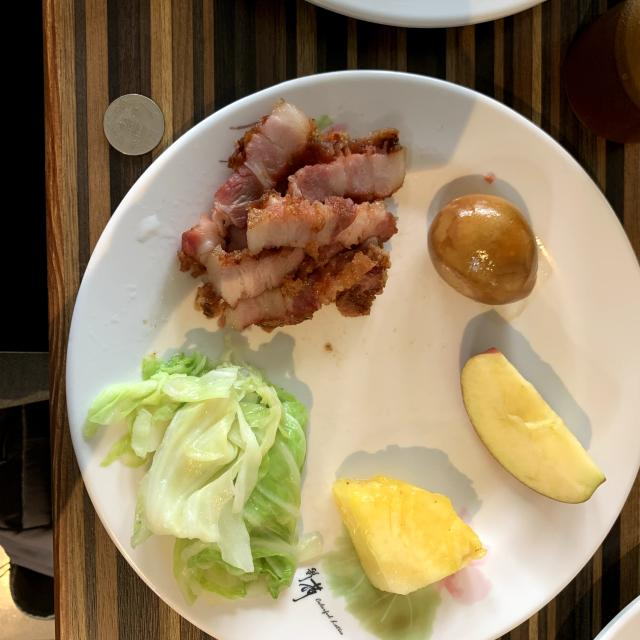apple -sliced-: (461, 348, 605, 504)
cabbage: (82, 351, 320, 604)
coin: (104, 94, 165, 155)
pineapple: (332, 475, 486, 595)
red grilled pork: (179, 100, 406, 330)
soy egg: (428, 194, 538, 305)
